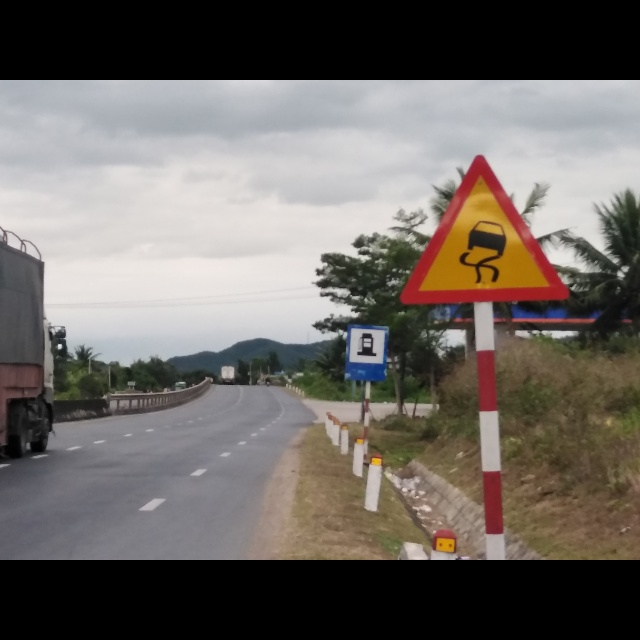Đường trơn trượt: (398, 159, 567, 308)
